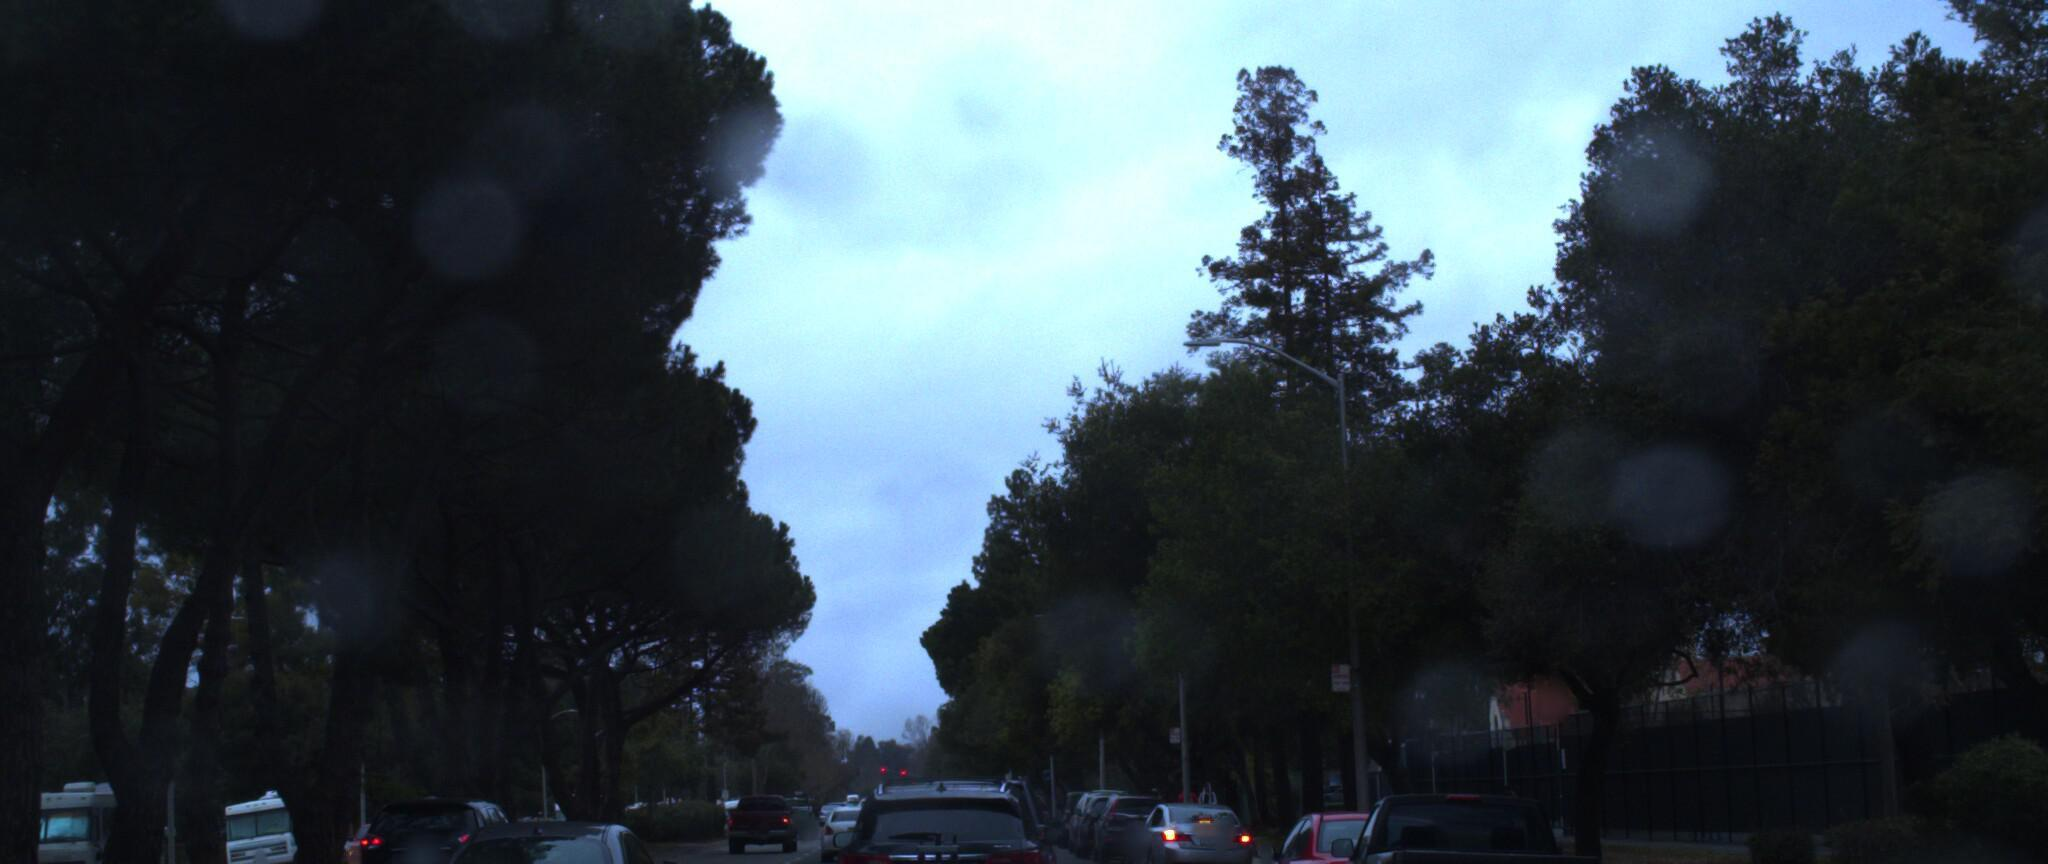car: (1311, 762, 1625, 864), (812, 752, 1068, 864), (1238, 770, 1501, 864), (410, 801, 701, 864), (347, 780, 541, 864), (1114, 773, 1258, 864), (1089, 767, 1178, 846), (0, 824, 29, 864)
